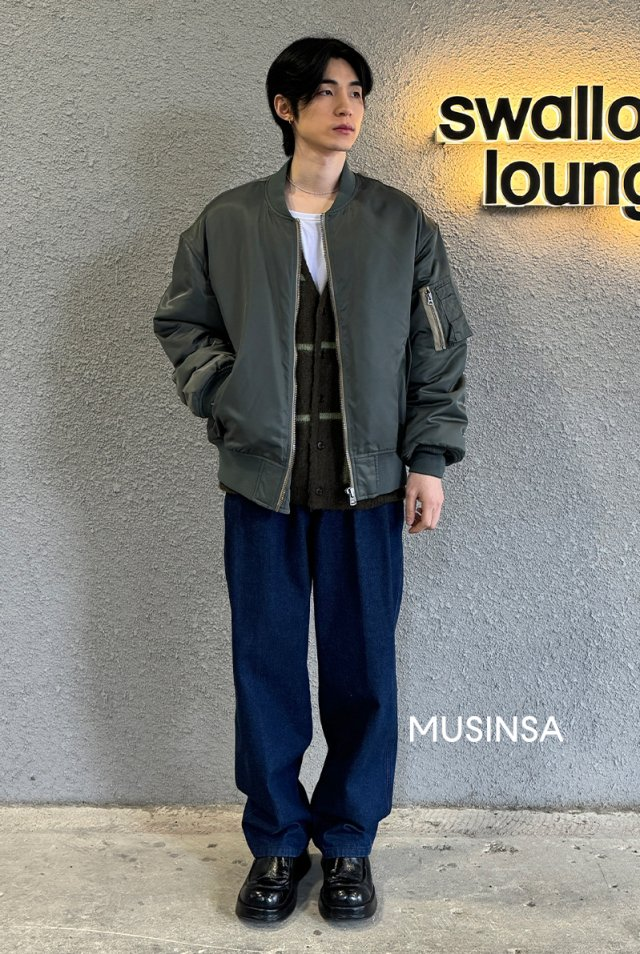Accessories: (282, 174, 344, 202)
Jacket: (152, 159, 480, 506)
Jeans: (215, 481, 410, 864)
Shoes: (228, 838, 385, 934)
